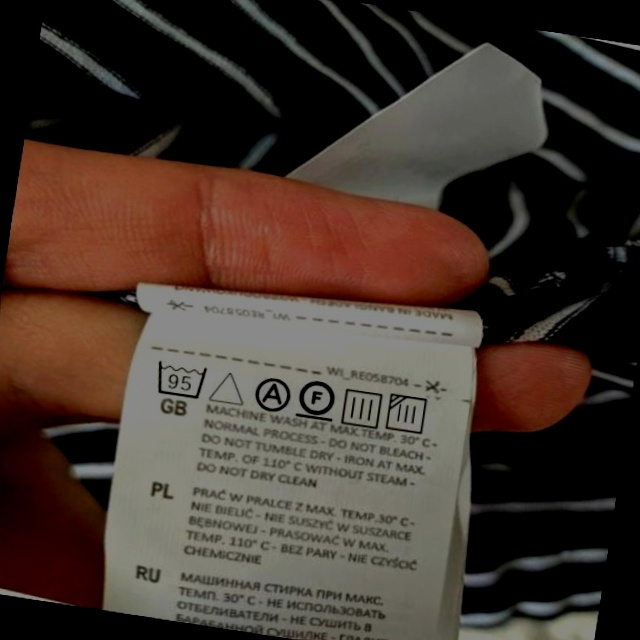95C: (152, 357, 211, 402)
bleach: (209, 364, 248, 409)
drip_dry: (338, 384, 386, 430)
drip_dry_in_shade: (385, 390, 434, 439)
dry_clean: (251, 374, 293, 414)
dry_clean_petrol_only: (296, 374, 339, 423)
